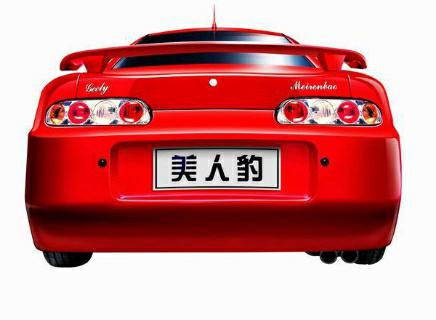江淮-瑞风S2: (21, 10, 412, 274)
